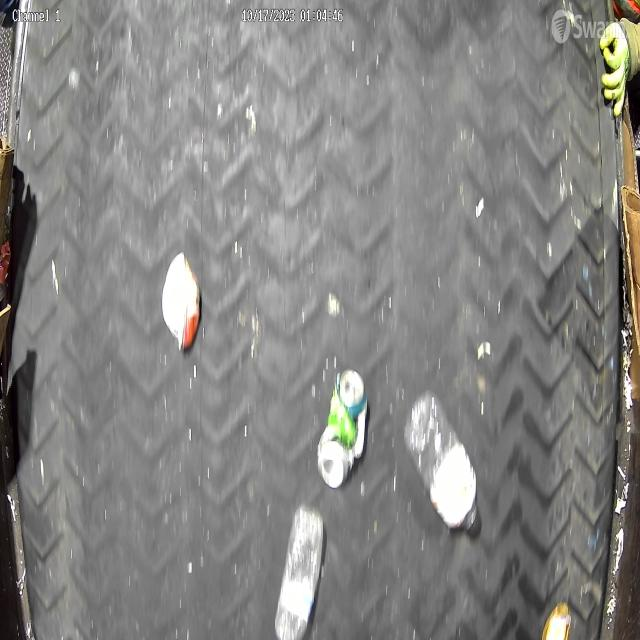can: (318, 368, 369, 486)
plastic_bottle: (404, 392, 480, 534), (276, 503, 326, 640)
